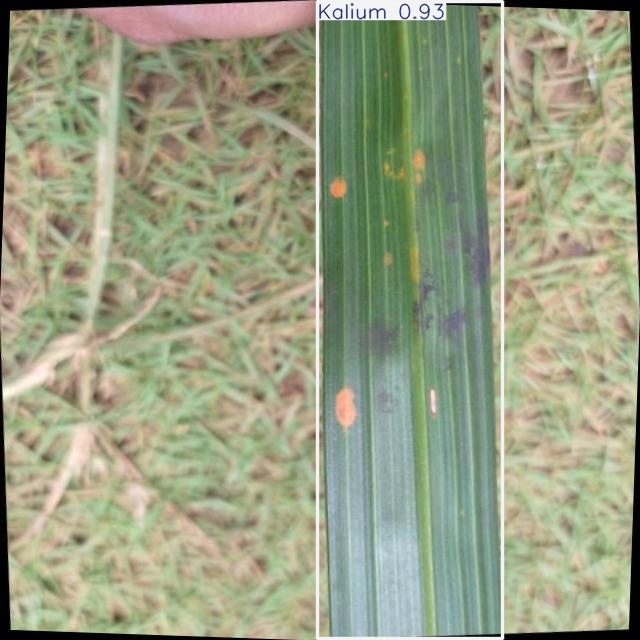Kalium: (317, 1, 502, 639)
